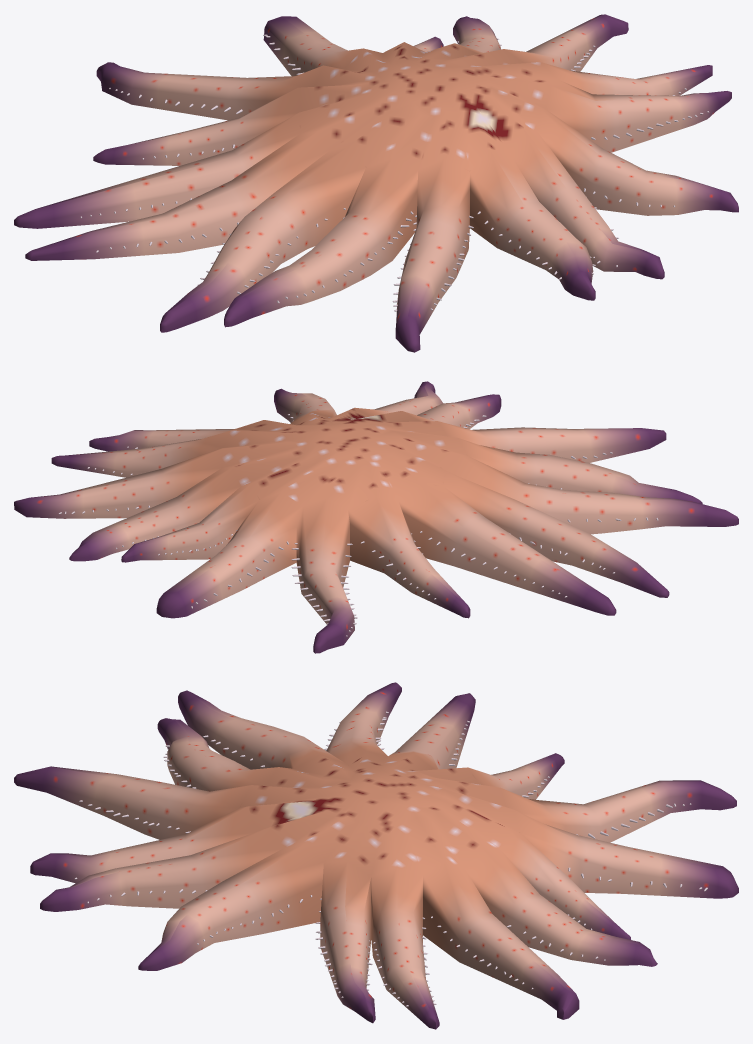
Rendered from Sunflower Starfish.fbx.
3 renders of one model, top to bottom at view 1: azimuth 30°, elevation 25°; view 2: azimuth 150°, elevation 25°; view 3: azimuth 270°, elevation 25°, orthographic. The views are drawn at different scales.
Visible parts, largest first — view 1: Body, Spikes; view 2: Body, Spikes; view 3: Body, Spikes.
Boxes of the visible parts, bbox=[...] form: Body: bbox=[14, 14, 738, 352]; Spikes: bbox=[80, 34, 708, 311]; Body: bbox=[14, 381, 738, 653]; Spikes: bbox=[59, 414, 658, 636]; Body: bbox=[14, 682, 738, 1029]; Spikes: bbox=[74, 711, 707, 1006].
Size of the model in its own units: 416 by 49.07 by 373.
